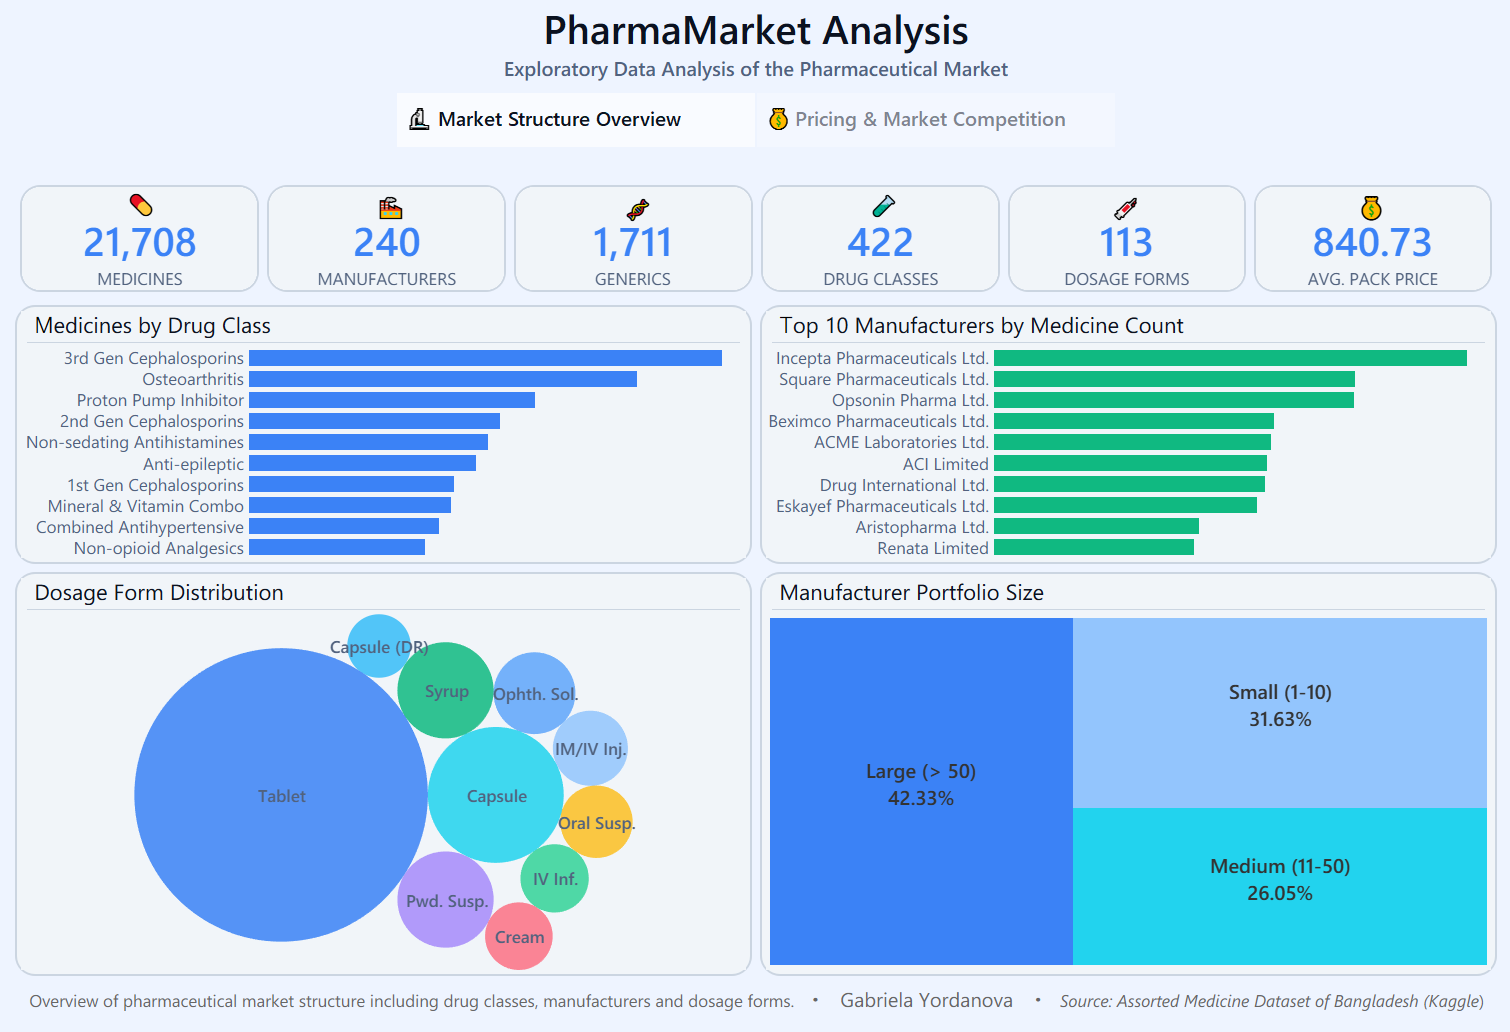

Layout of this report page (visuals, bound fields, positions):
{"tool":"tableau","page":{"name":"Market Structure Overview","canvas":[1500,850],"ordinal":0},"visuals":[{"type":"worksheet","title":"KPI_Medicines","mark":"Automatic","box":[10,10,247,115]},{"type":"worksheet","title":"KPI_Manufacturers","mark":"Automatic","box":[257,10,247,115]},{"type":"worksheet","title":"KPI_Generics","mark":"Automatic","box":[504,10,247,115]},{"type":"worksheet","title":"KPI_DrugClasses","mark":"Automatic","box":[751,10,247,115]},{"type":"worksheet","title":"KPI_DosageForms","mark":"Automatic","box":[998,10,246,115]},{"type":"worksheet","title":"KPI_AvgPackPrice","mark":"Automatic","box":[1244,10,246,115]},{"type":"text","box":[362.1,19,46.1,37]},{"type":"text","box":[117.9,20,33.2,28]},{"type":"text","box":[857.1,20,41.8,30]},{"type":"text","box":[1348.9,21,33.2,33]},{"type":"text","box":[1097.1,24,45,28]},{"type":"text","box":[613.9,26,36.4,27]},{"type":"text","box":[11,136,733,35]},{"type":"text","box":[756,136,733,35]},{"type":"blank","box":[11,171,733,1]},{"type":"blank","box":[756,171,733,1]},{"type":"worksheet","title":"Chart_DrugClass","mark":"Automatic","rows":["drug_class_name"],"cols":["brand_id"],"box":[11,172,733,219]},{"type":"worksheet","title":"Chart_Manufacturers","mark":"Automatic","rows":["manufacturer_name"],"cols":["brand_id"],"box":[756,172,733,219]},{"type":"text","box":[11,403,733,35]},{"type":"text","box":[756,403,733,35]},{"type":"blank","box":[11,438,733,1]},{"type":"blank","box":[756,438,733,1]},{"type":"worksheet","title":"Chart_DosageForm","mark":"Circle","box":[11,439,733,364]},{"type":"worksheet","title":"Chart_ManufacturerPortfolio","mark":"Automatic","box":[756,439,733,364]},{"type":"text","box":[5,809,1490,36]}]}

Visuals, with their boxes on the page's 1500x850 design canvas (x1, y1, x2, y2). These are canvas units, not pixel positions in the 1510x1032 screenshot, which may show the page scaled, cropped or inside an application window:
"KPI_Medicines" worksheet: [10, 10, 257, 125]
"KPI_Manufacturers" worksheet: [257, 10, 504, 125]
"KPI_Generics" worksheet: [504, 10, 751, 125]
"KPI_DrugClasses" worksheet: [751, 10, 998, 125]
"KPI_DosageForms" worksheet: [998, 10, 1244, 125]
"KPI_AvgPackPrice" worksheet: [1244, 10, 1490, 125]
text: [362, 19, 408, 56]
text: [118, 20, 151, 48]
text: [857, 20, 899, 50]
text: [1349, 21, 1382, 54]
text: [1097, 24, 1142, 52]
text: [614, 26, 650, 53]
text: [11, 136, 744, 171]
text: [756, 136, 1489, 171]
blank: [11, 171, 744, 172]
blank: [756, 171, 1489, 172]
"Chart_DrugClass" worksheet: [11, 172, 744, 391]
"Chart_Manufacturers" worksheet: [756, 172, 1489, 391]
text: [11, 403, 744, 438]
text: [756, 403, 1489, 438]
blank: [11, 438, 744, 439]
blank: [756, 438, 1489, 439]
"Chart_DosageForm" worksheet (Circle marks): [11, 439, 744, 803]
"Chart_ManufacturerPortfolio" worksheet: [756, 439, 1489, 803]
text: [5, 809, 1495, 845]
